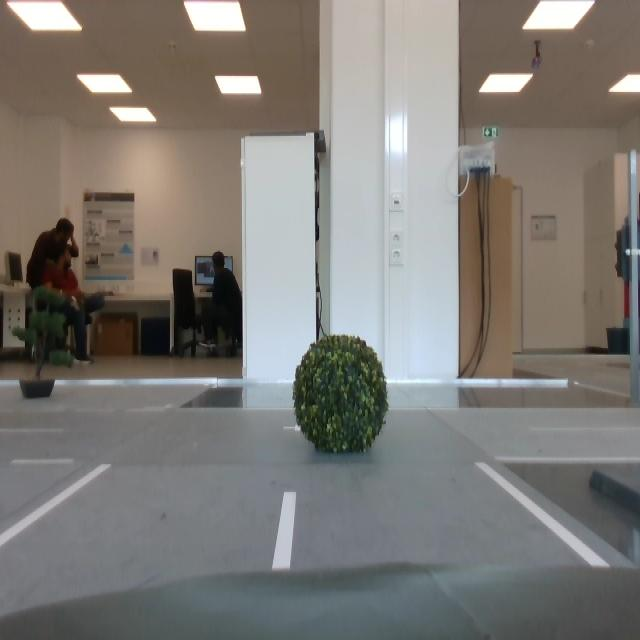potted plant: (292, 333, 389, 454), (15, 284, 75, 398)
traffic light: (619, 221, 634, 286)
